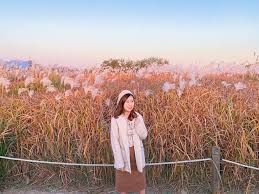people: (111, 90, 149, 194)
